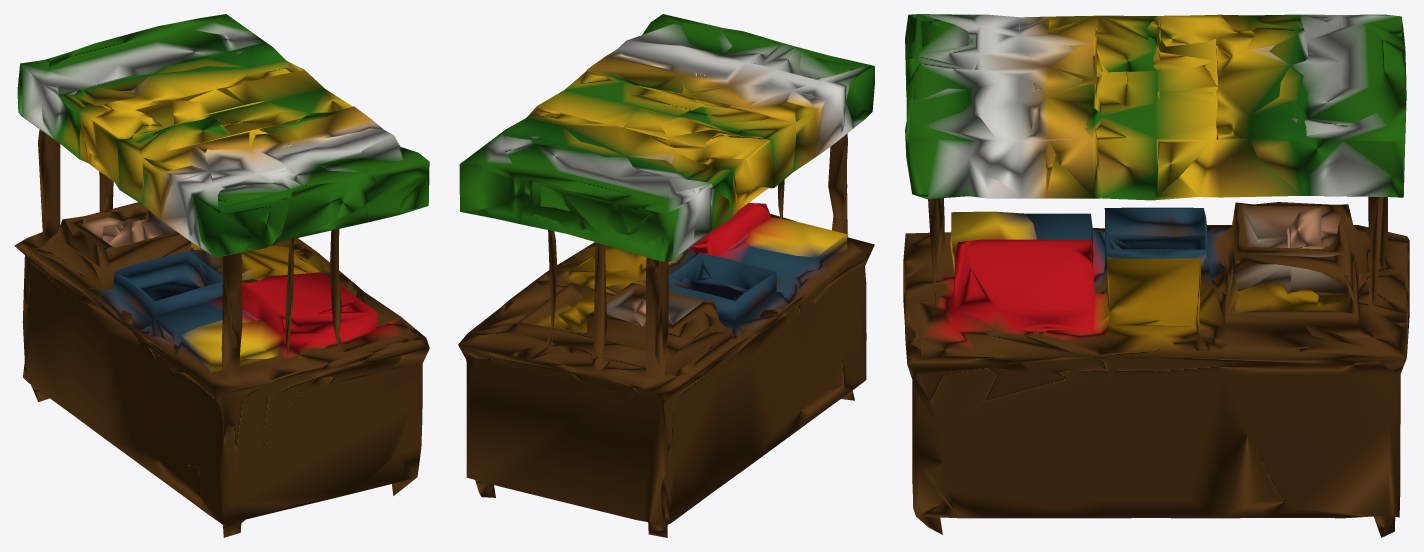
Rendered from gen3d-market-stall-lod0.glb.
3 views of the same model, side by side, from view 1: azimuth 30°, elevation 25°; view 2: azimuth 150°, elevation 25°; view 3: azimuth 270°, elevation 25° (orthographic). The views are drawn at different scales.
Visible parts, largest first — view 1: part_0; view 2: part_0; view 3: part_0.
Boxes of the visible parts, x1=… form: part_0: x1=14, y1=14, x2=429, y2=537; part_0: x1=458, y1=14, x2=874, y2=537; part_0: x1=903, y1=14, x2=1409, y2=537.
Size of the model in its own units: 0.6632 by 0.9988 by 1.12.
